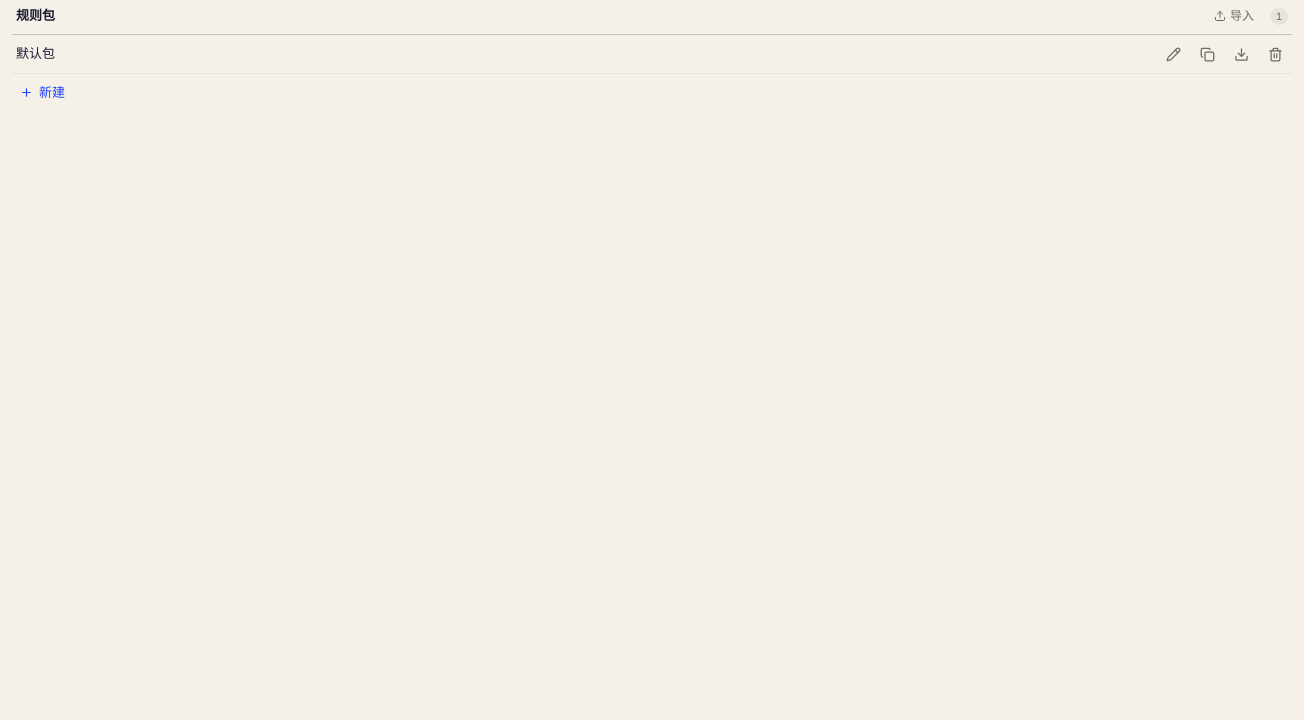
Test: RuleLibrary › 保存非法返回原因时提示
Click the button named "编辑 默认包".
click(1173, 54)  # box [1160,41,1186,67]
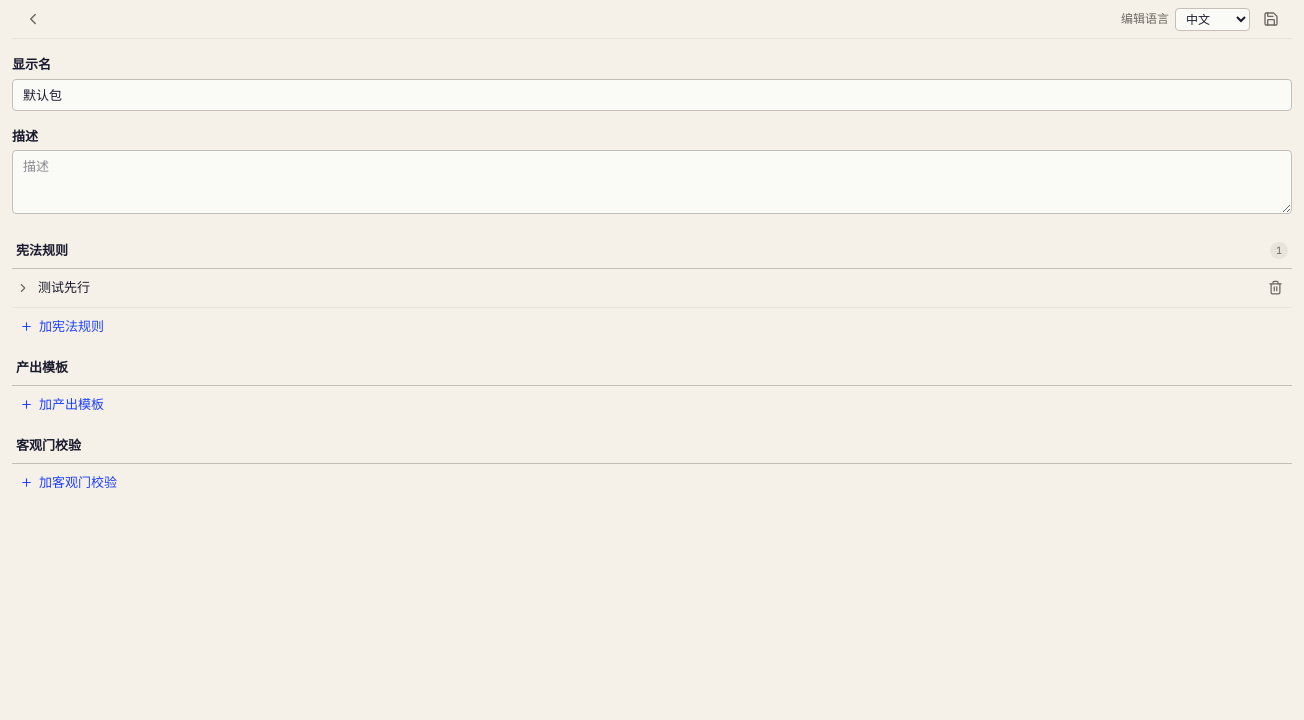
Now the text "测试先行" is shown, box [38,279,90,295]
Click the button named "保存".
click(1271, 19)  # box [1258,6,1284,32]
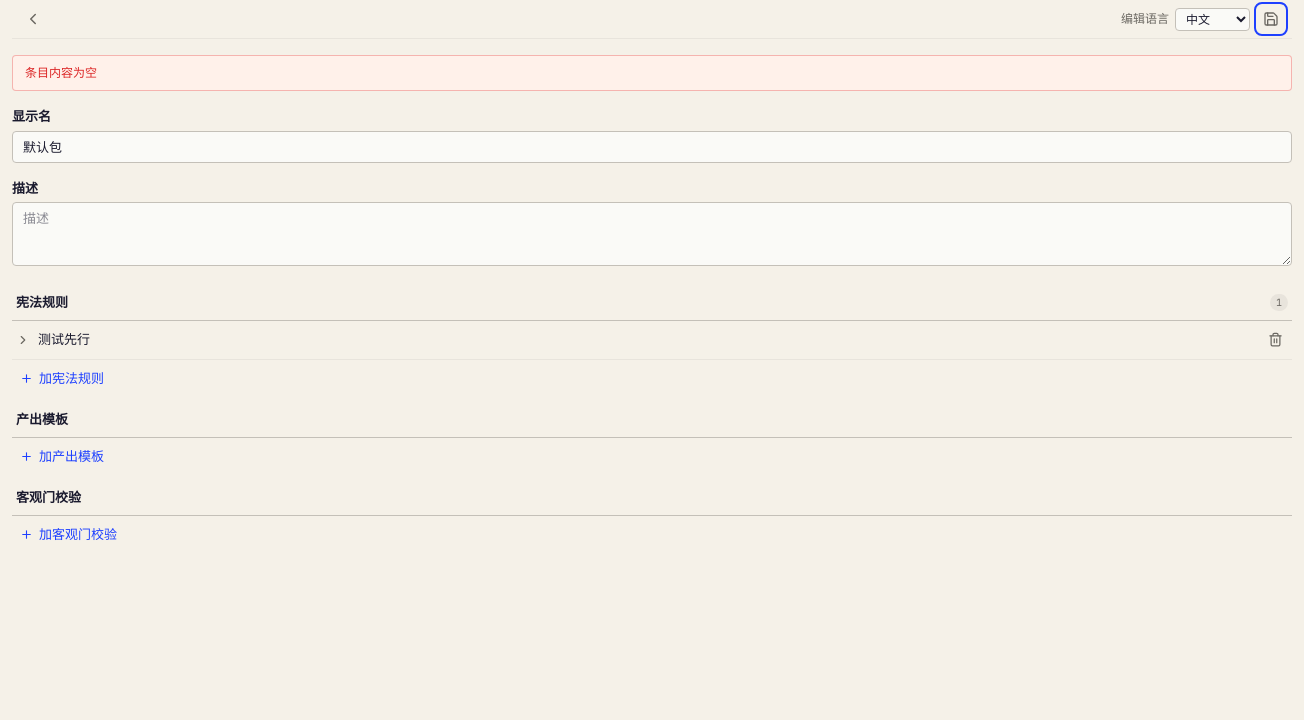
Now the message "条目内容为空" is shown, box [12,55,1292,91]
